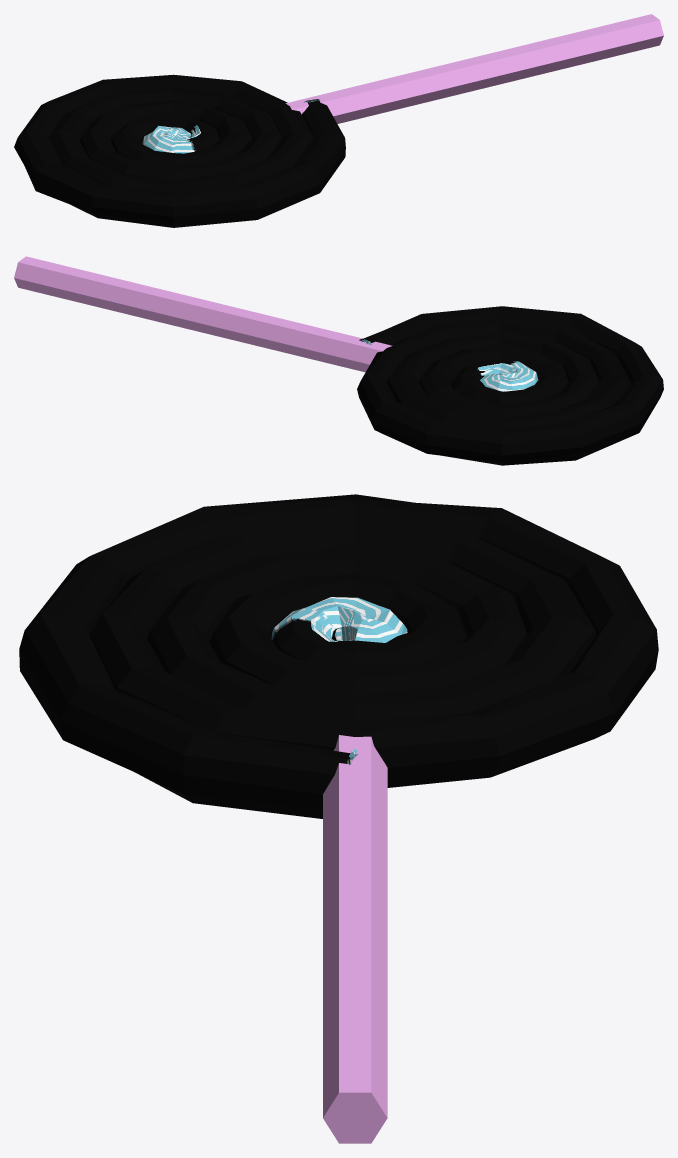
The model's file is LizakCzerwony.fbx.
The picture shows the model from 3 angles, top to bottom: view 1: azimuth 30°, elevation 25°; view 2: azimuth 150°, elevation 25°; view 3: azimuth 270°, elevation 25°; orthographic projection. The views are drawn at different scales.
Parts seen in each view (by area): view 1: LizakCzerwony; view 2: LizakCzerwony; view 3: LizakCzerwony.
Boxes of the visible parts, <box> form: LizakCzerwony: <box>14,14,663,227</box>; LizakCzerwony: <box>14,256,663,465</box>; LizakCzerwony: <box>19,494,658,1143</box>.
Size of the model in its own units: 502 by 27.96 by 224.
Materials: 2 (1 with a texture image).
